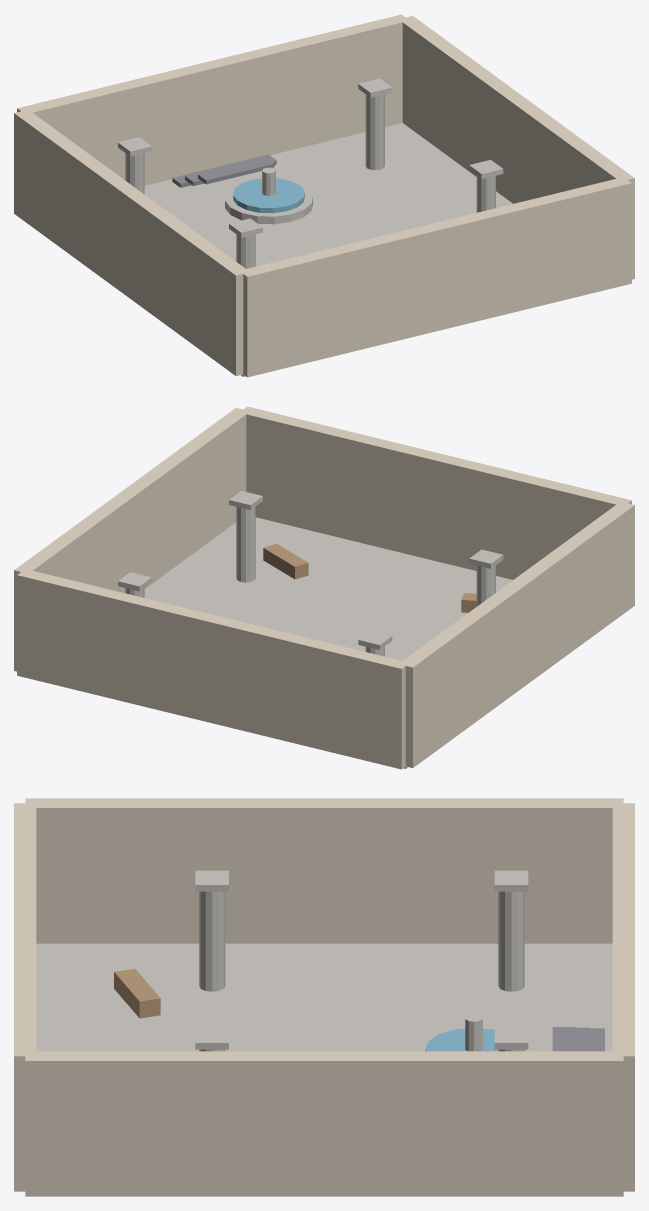
The model's file is courtyard.glb.
The picture shows the model from 3 angles, top to bottom: view 1: azimuth 30°, elevation 25°; view 2: azimuth 150°, elevation 25°; view 3: azimuth 270°, elevation 25°; orthographic projection. The views are drawn at different scales.
Bounding box in the file's own units: 16.6 × 4.1 × 16.6.
